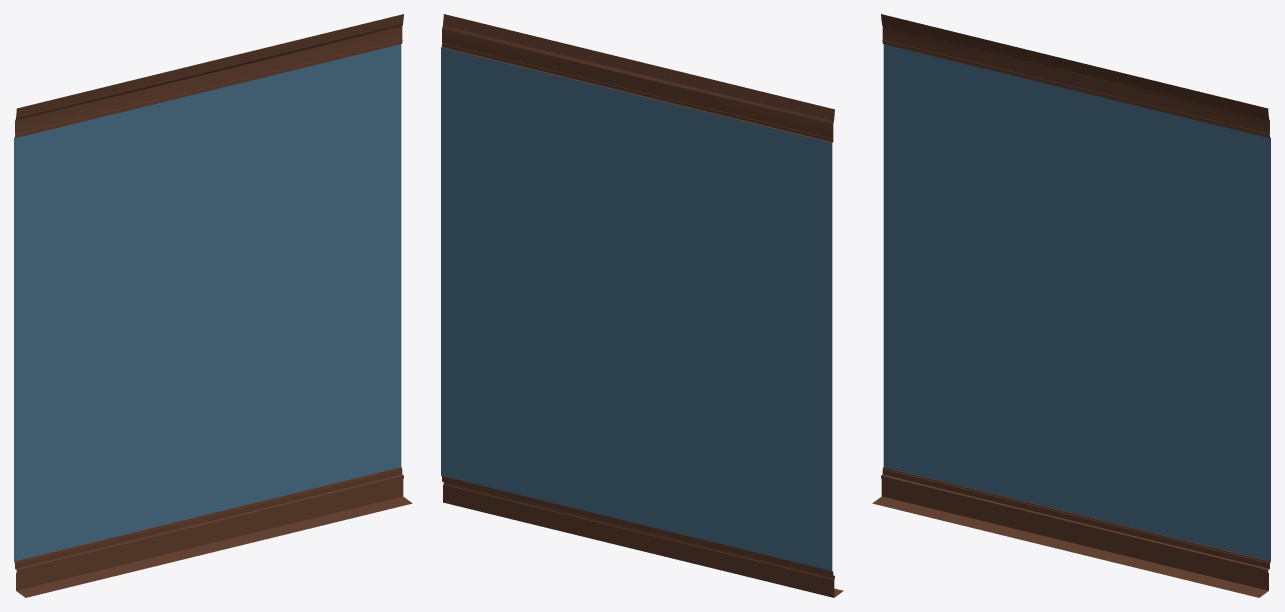
Rendered from Tile16_fix02.fbx.
3 renders of one model, left to right at view 1: azimuth 30°, elevation 25°; view 2: azimuth 150°, elevation 25°; view 3: azimuth 330°, elevation 25°, orthographic.
Visible parts, largest first — view 1: Tile16; view 2: Tile16; view 3: Tile16.
Part boxes in pixels (left/top/right/bottom): Tile16: left=14, top=14, right=412, bottom=597; Tile16: left=441, top=14, right=843, bottom=597; Tile16: left=872, top=14, right=1270, bottom=597.
Size of the model in its own units: 650 by 775 by 33.87.
